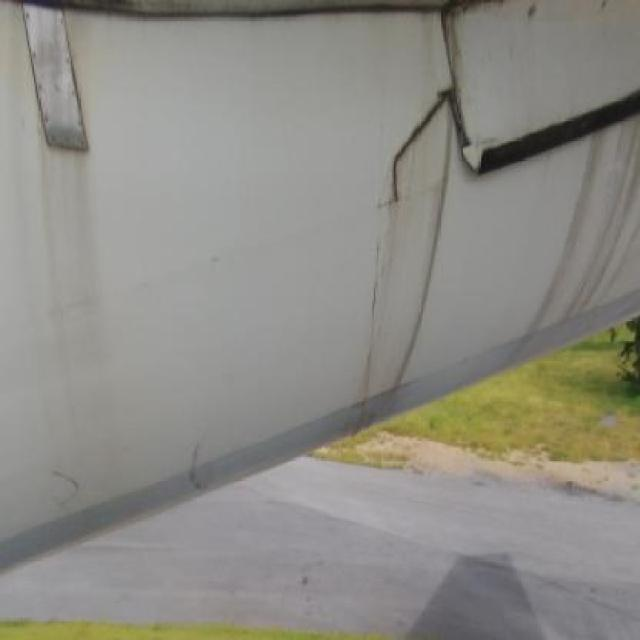Rust: (4, 2, 148, 447), (497, 83, 640, 397), (346, 74, 462, 460), (32, 460, 111, 540), (177, 415, 226, 513)
